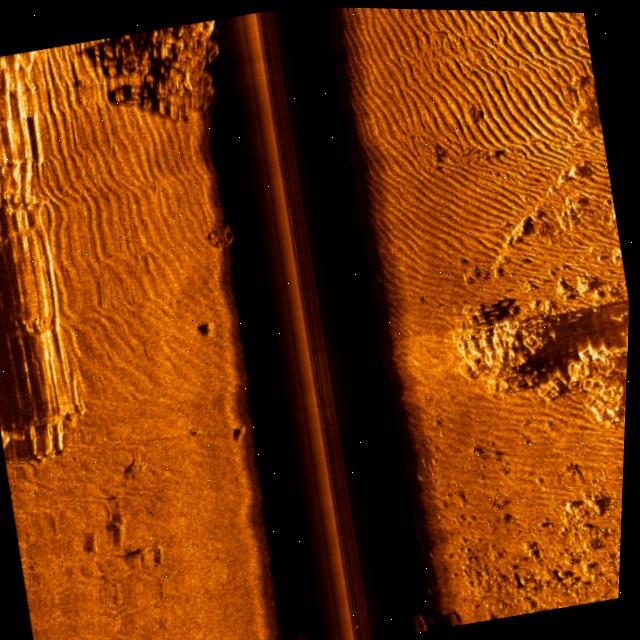artificial reef: (457, 283, 632, 474), (115, 15, 240, 129), (197, 205, 242, 252)
